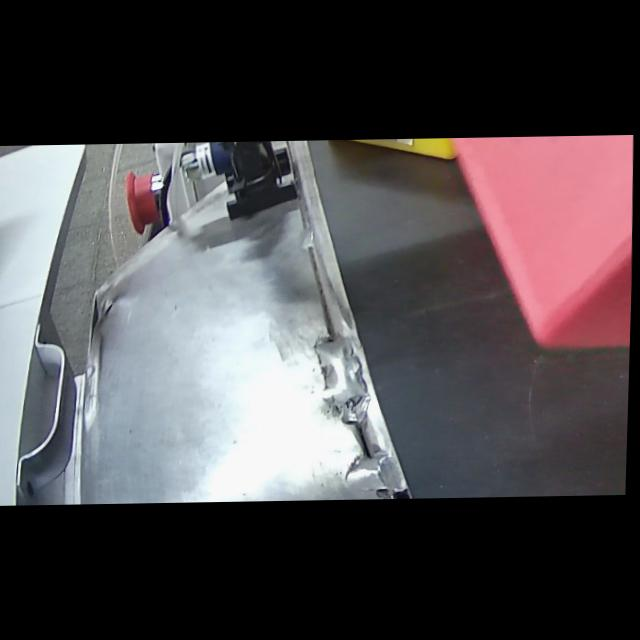redBox: (440, 135, 637, 371)
yellowBox: (312, 138, 512, 174)
